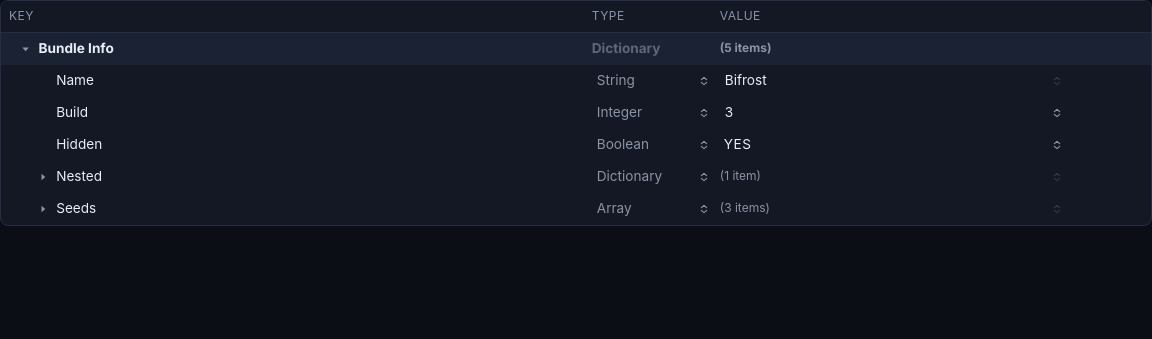
Test: PlistTable › labels array items by position and gives them no key editor
Click the button named "Expand" in the row of "(3 items)" at (43, 208), box [35,200,52,217]
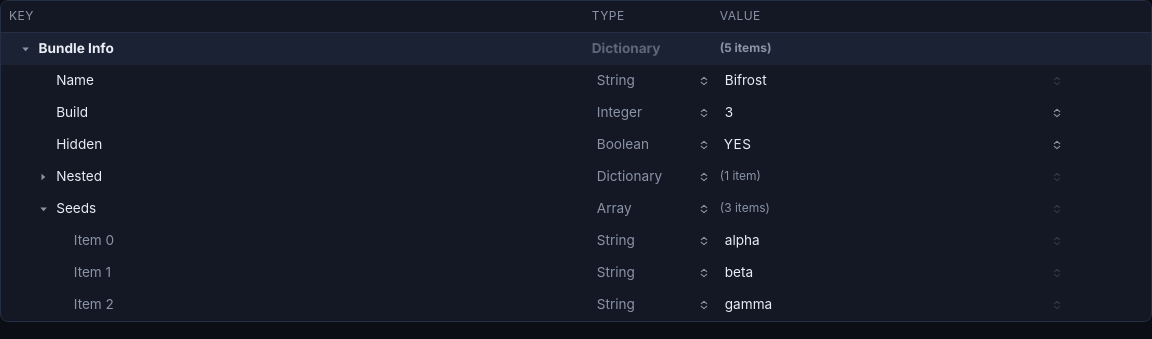
Expected: the text "Item 0" is shown, [74,232,114,248]
Expected: the text "Item 2" is shown, [74,296,114,312]
